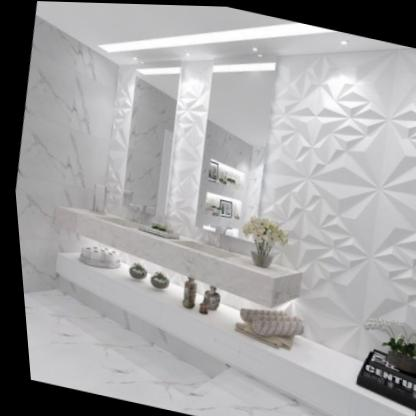Futech tiles: (261, 58, 416, 253)
